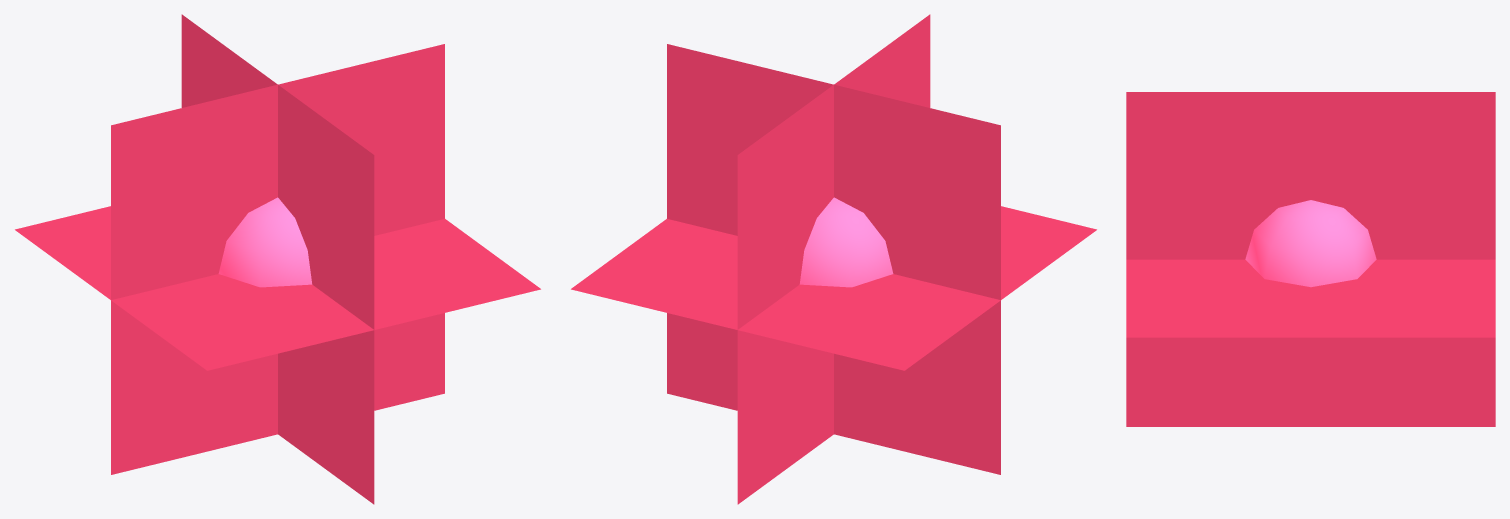
The model's file is fx_heal.glb.
The picture shows the model from 3 angles, left to right: view 1: azimuth 30°, elevation 25°; view 2: azimuth 150°, elevation 25°; view 3: azimuth 270°, elevation 25°; orthographic projection. The views are drawn at different scales.
Parts seen in each view (by area): view 1: fx_heal, fx_heal_core; view 2: fx_heal, fx_heal_core; view 3: fx_heal, fx_heal_core.
Boxes of the visible parts, <box> form: fx_heal: <box>15,14,540,504</box>; fx_heal_core: <box>218,197,312,287</box>; fx_heal: <box>571,14,1096,504</box>; fx_heal_core: <box>799,197,893,287</box>; fx_heal: <box>1126,92,1495,426</box>; fx_heal_core: <box>1245,200,1376,287</box>.
Bounding box in the file's own units: 0.9 × 0.9 × 0.9.
Materials: 2 (1 with a texture image).
